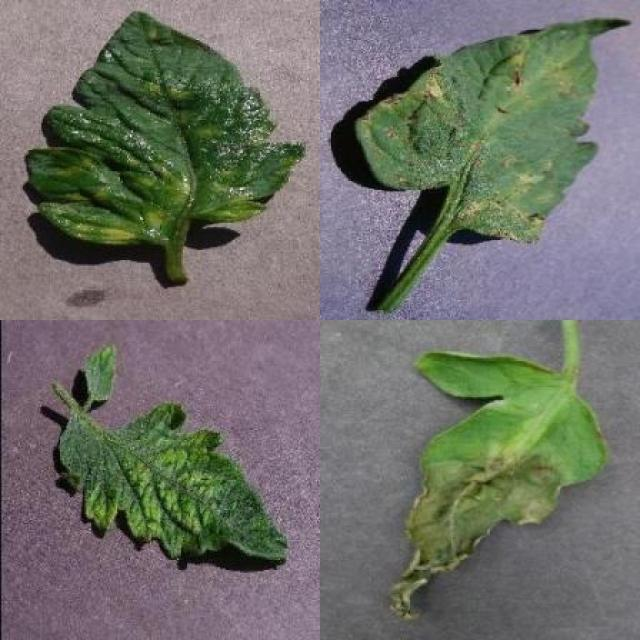Late Blight: (388, 347, 608, 623)
Leaf Mold: (26, 8, 307, 248)
Mosaic Virus: (57, 402, 290, 564), (82, 342, 119, 405)
Septoria: (352, 14, 632, 246)
